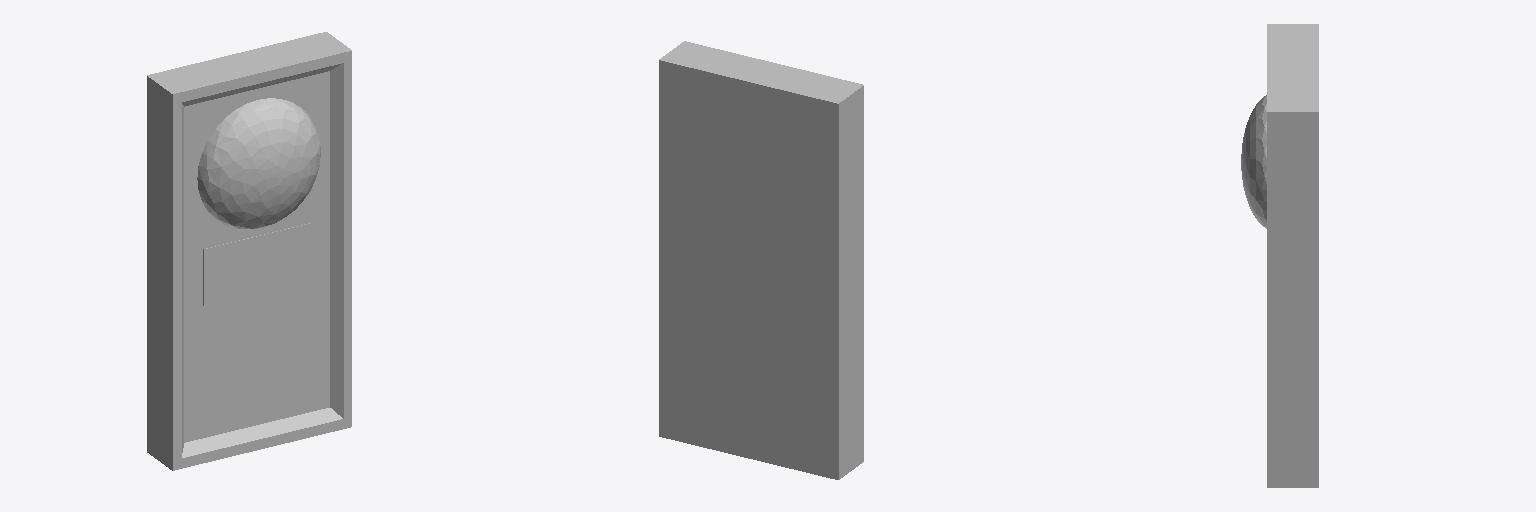
The model's file is PortalDoor.obj.
3 renders of one model, left to right at view 1: azimuth 30°, elevation 25°; view 2: azimuth 150°, elevation 25°; view 3: azimuth 270°, elevation 25°, orthographic.
Visible parts, largest first — view 1: Door, InstancePano, InfoPanel; view 2: Door; view 3: Door, InstancePano.
Part boxes in pixels (left/top/right/bottom): Door: left=147, top=32, right=351, bottom=470; InstancePano: left=197, top=98, right=320, bottom=228; InfoPanel: left=203, top=223, right=311, bottom=305; Door: left=659, top=41, right=863, bottom=479; Door: left=1267, top=24, right=1318, bottom=487; InstancePano: left=1241, top=95, right=1266, bottom=228.
Size of the model in its own units: 1 by 2 by 0.3743.